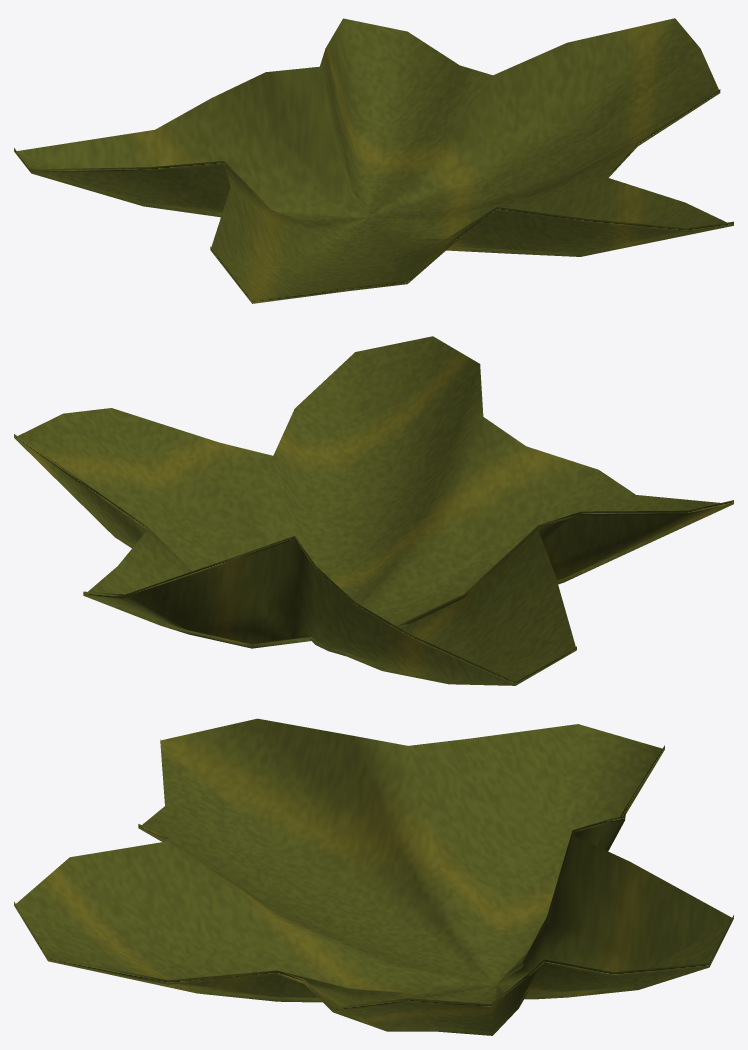
File: leaf-damaged.glb
The picture shows the model from 3 angles, top to bottom: view 1: azimuth 30°, elevation 25°; view 2: azimuth 150°, elevation 25°; view 3: azimuth 270°, elevation 25°; orthographic projection. The views are drawn at different scales.
Size of the model in its own units: 0.6116 by 0.129 by 0.5716.
1 material, 1 textured.
